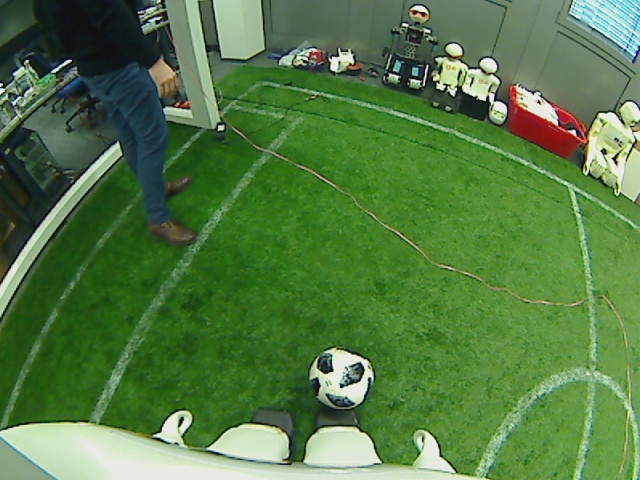ball: (307, 343, 374, 412)
